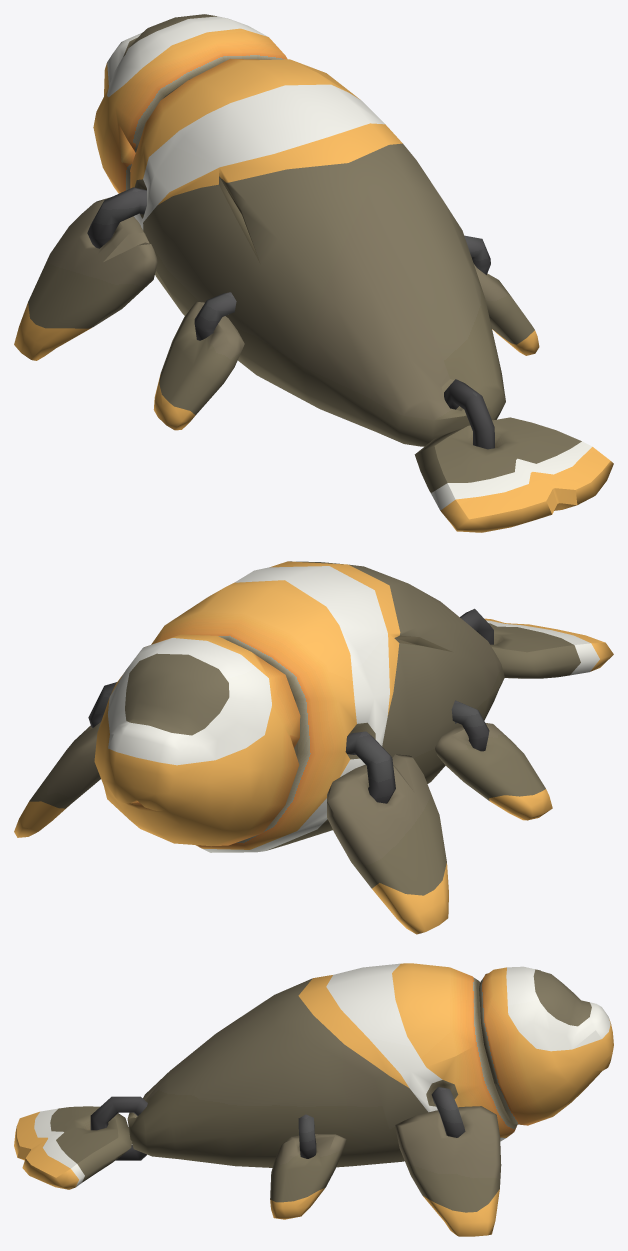
Rendered from CharSkyKid_Prop_AP27ManateeFigurine.glb.
The picture shows the model from 3 angles, top to bottom: view 1: azimuth 30°, elevation 25°; view 2: azimuth 150°, elevation 25°; view 3: azimuth 270°, elevation 25°; orthographic projection. The views are drawn at different scales.
Visible parts, largest first — view 1: CharSkyKid_Prop_AP27ManateeFigurine; view 2: CharSkyKid_Prop_AP27ManateeFigurine; view 3: CharSkyKid_Prop_AP27ManateeFigurine.
Part boxes in pixels (x1,y1,x2,y2): CharSkyKid_Prop_AP27ManateeFigurine: (14, 14, 613, 532); CharSkyKid_Prop_AP27ManateeFigurine: (14, 561, 613, 934); CharSkyKid_Prop_AP27ManateeFigurine: (14, 963, 613, 1236).
Size of the model in its own units: 5.72 by 3.38 by 9.63.
1 material, 1 textured.
